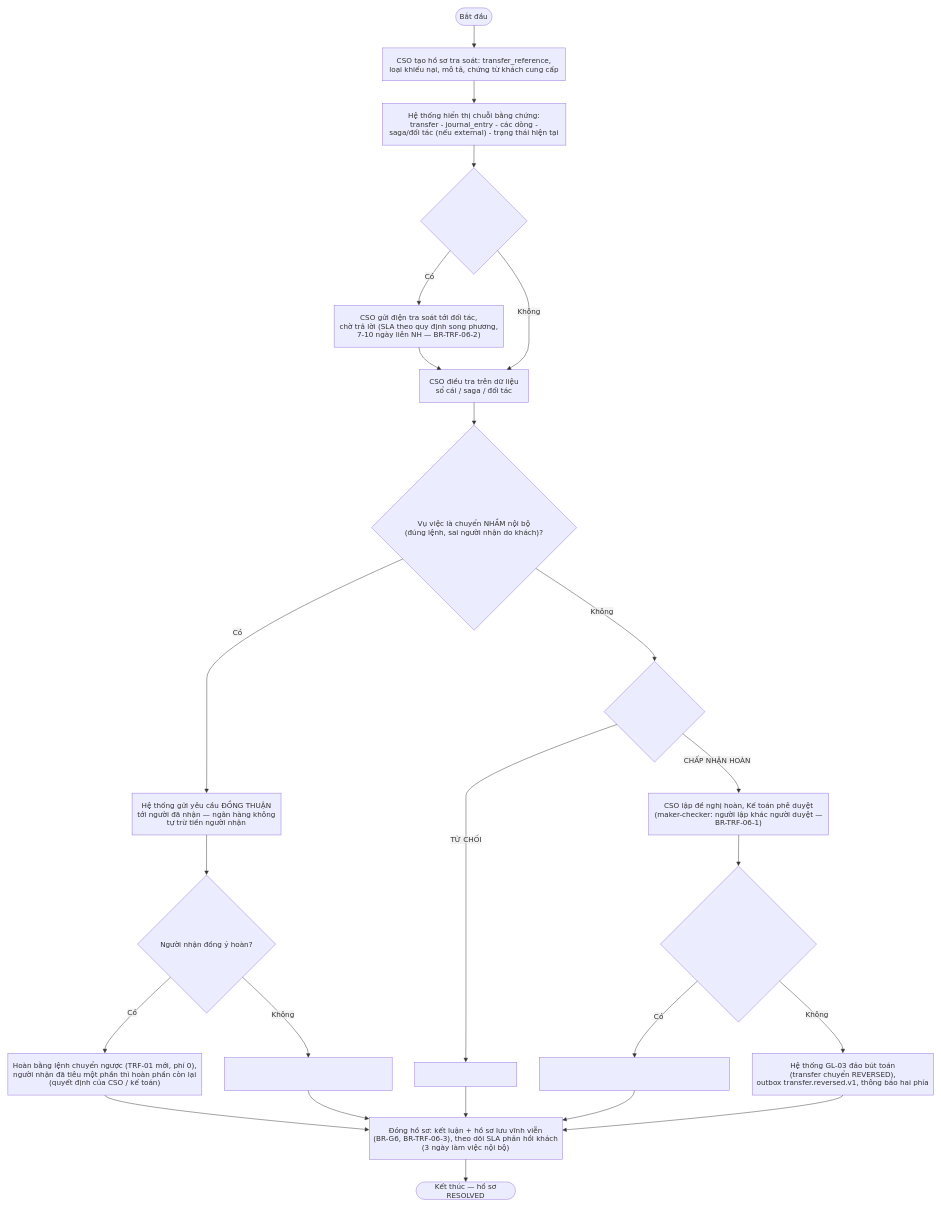
Some shapes in this 941 by 1207 pixel diagram are drawn without their labels. Here are the shapes that lost their labels. From the top down, the box of each, then its label:
(420, 167, 527, 274): Giao dịch external?
(604, 661, 705, 762): Kết luận điều tra?
(660, 866, 817, 1022): Bút toán đã bị đảo trước đó?
(224, 1057, 392, 1091): Ghi nhận từ chối đồng thuận, trả lời khách (không cưỡng chế hoàn)
(414, 1062, 517, 1087): Ghi lý do, trả lời khách
(539, 1057, 730, 1091): DB chặn hoàn lần hai (uq_journal_one_reversal) — trả kết quả đã hoàn (E4a)
